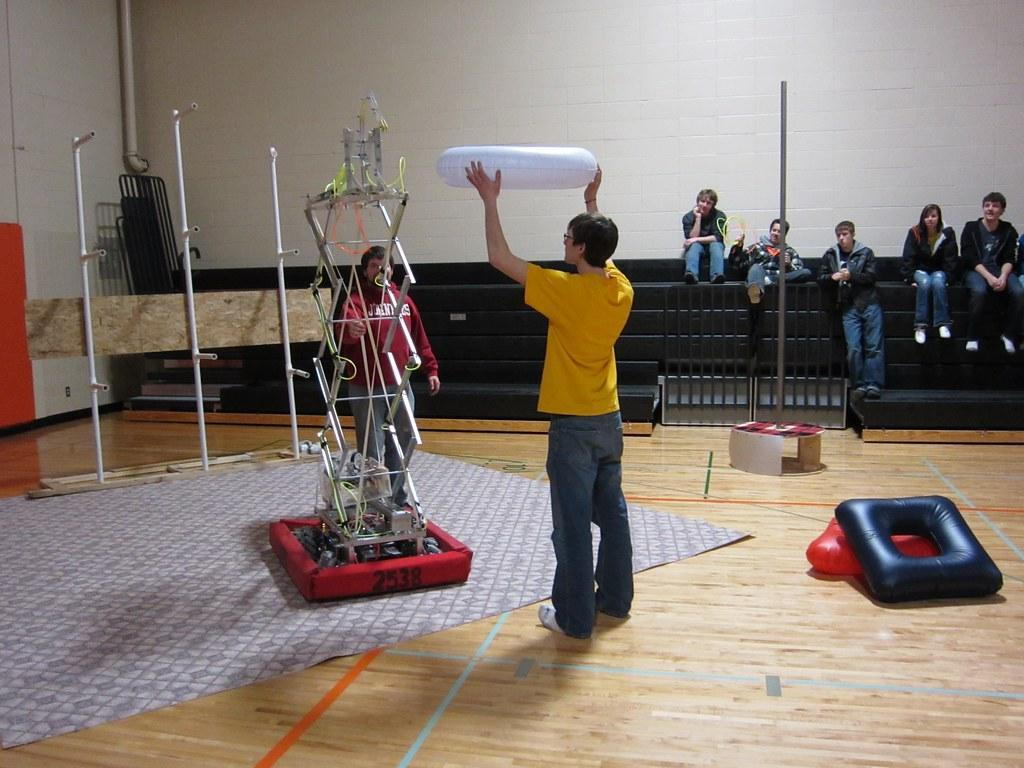robot: (259, 79, 485, 617)
